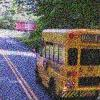buses: (35, 25, 100, 100)
